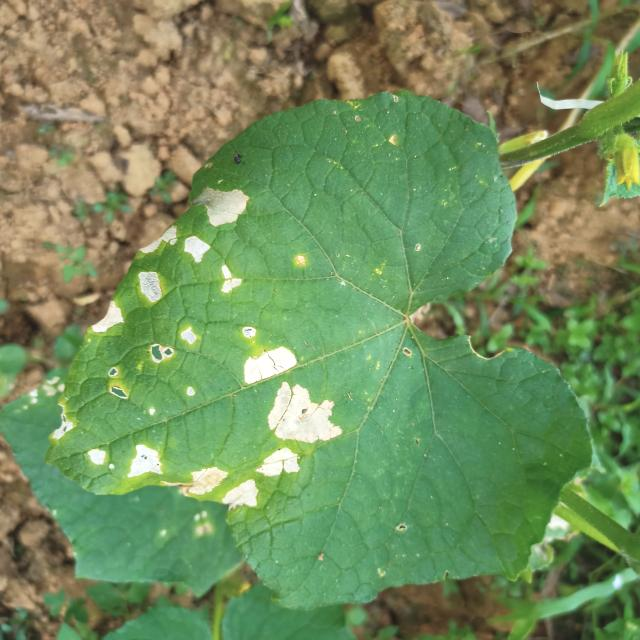disease_cucumber: (245, 346, 342, 442), (183, 188, 254, 293), (135, 222, 178, 306), (188, 468, 262, 510), (86, 444, 164, 479), (150, 325, 198, 364), (256, 446, 301, 476), (94, 300, 122, 339)
